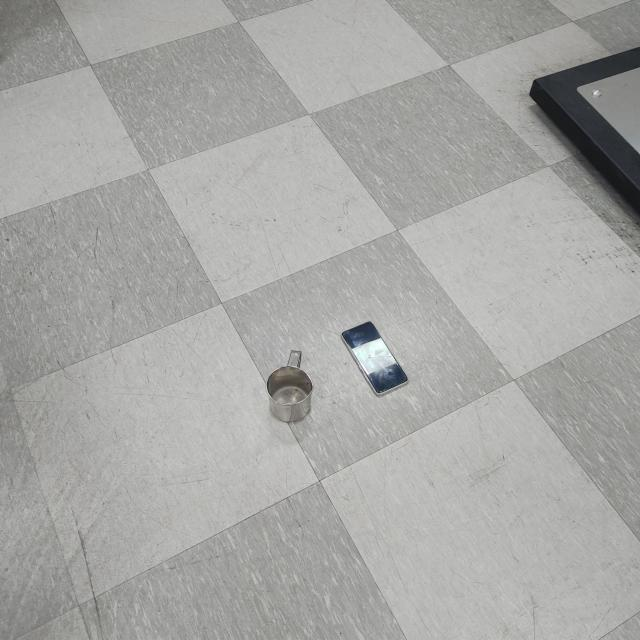cup: (264, 348, 314, 424)
phone: (339, 317, 409, 399)
